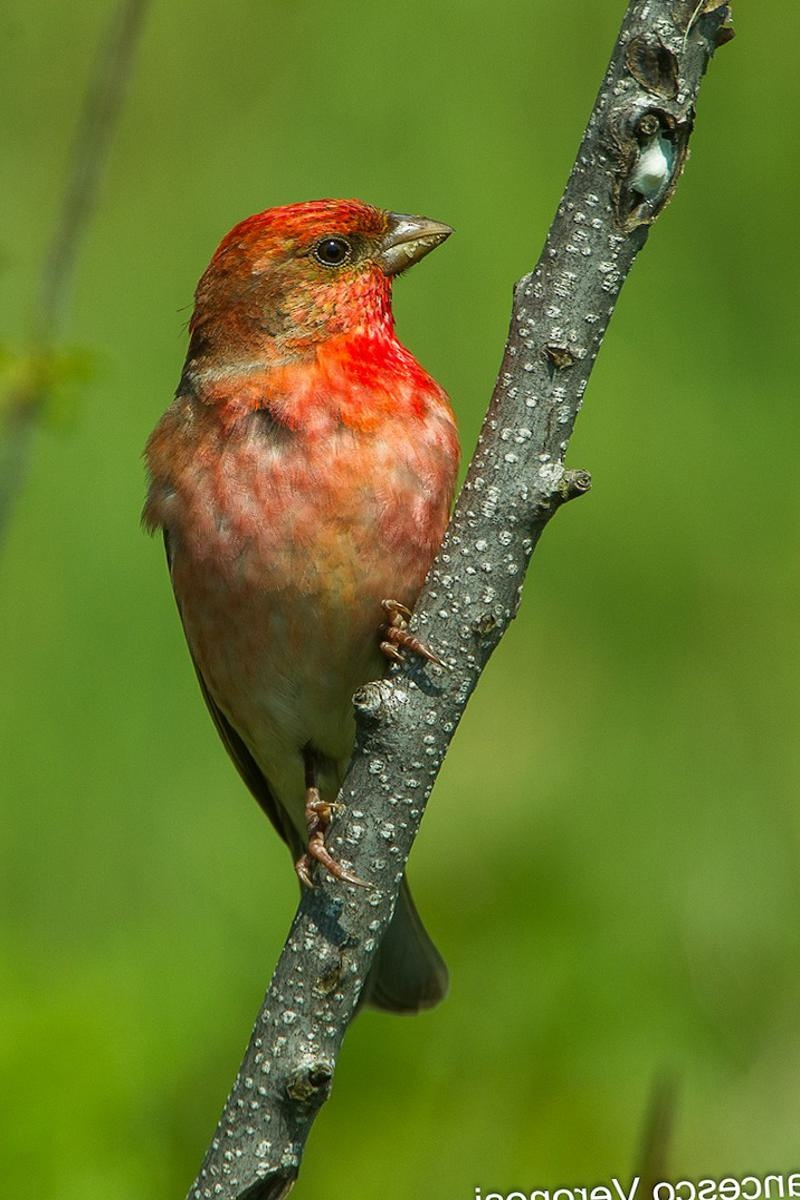rosefinch: (171, 120, 529, 975)
